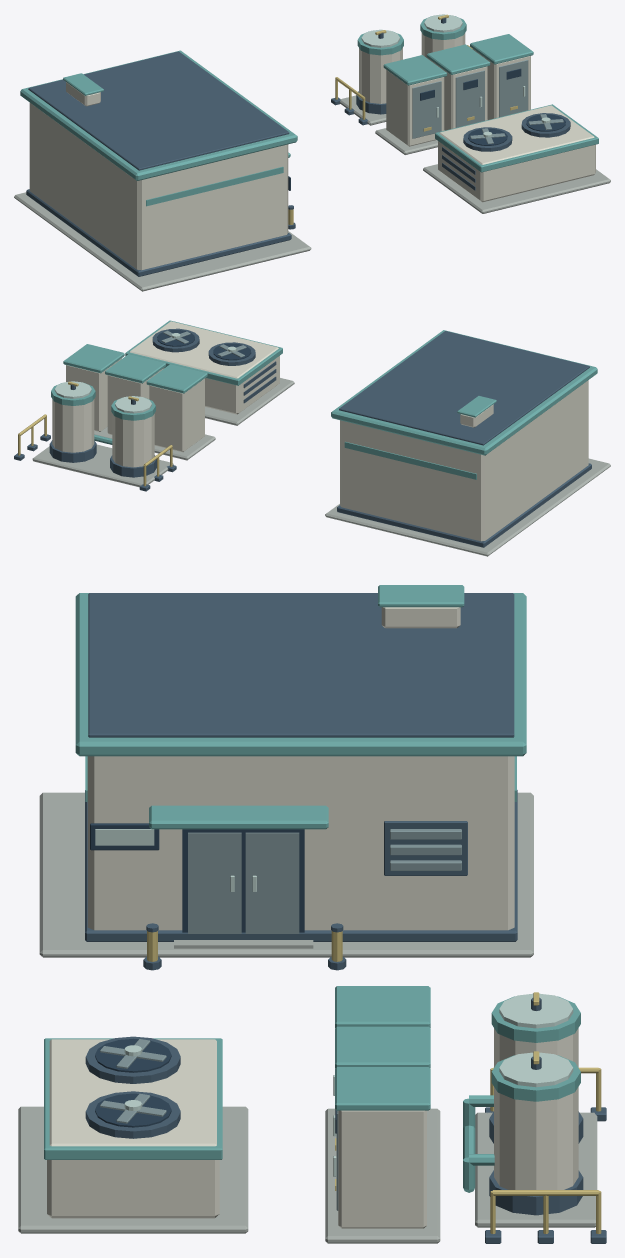
The model's file is campus_utility_decor_v01.glb.
The picture shows the model from 3 angles, top to bottom: view 1: azimuth 30°, elevation 25°; view 2: azimuth 150°, elevation 25°; view 3: azimuth 270°, elevation 25°; orthographic projection. The views are drawn at different scales.
Parts seen in each view (by area): view 1: campus_utility_decor; view 2: campus_utility_decor; view 3: campus_utility_decor.
Boxes of the visible parts, x1,y1,x2,y2 form: campus_utility_decor: [14, 14, 610, 291]; campus_utility_decor: [14, 320, 610, 556]; campus_utility_decor: [18, 585, 606, 1243].
Size of the model in its own units: 22 by 5.61 by 12.27.
Materials: 1 (1 with a texture image).
